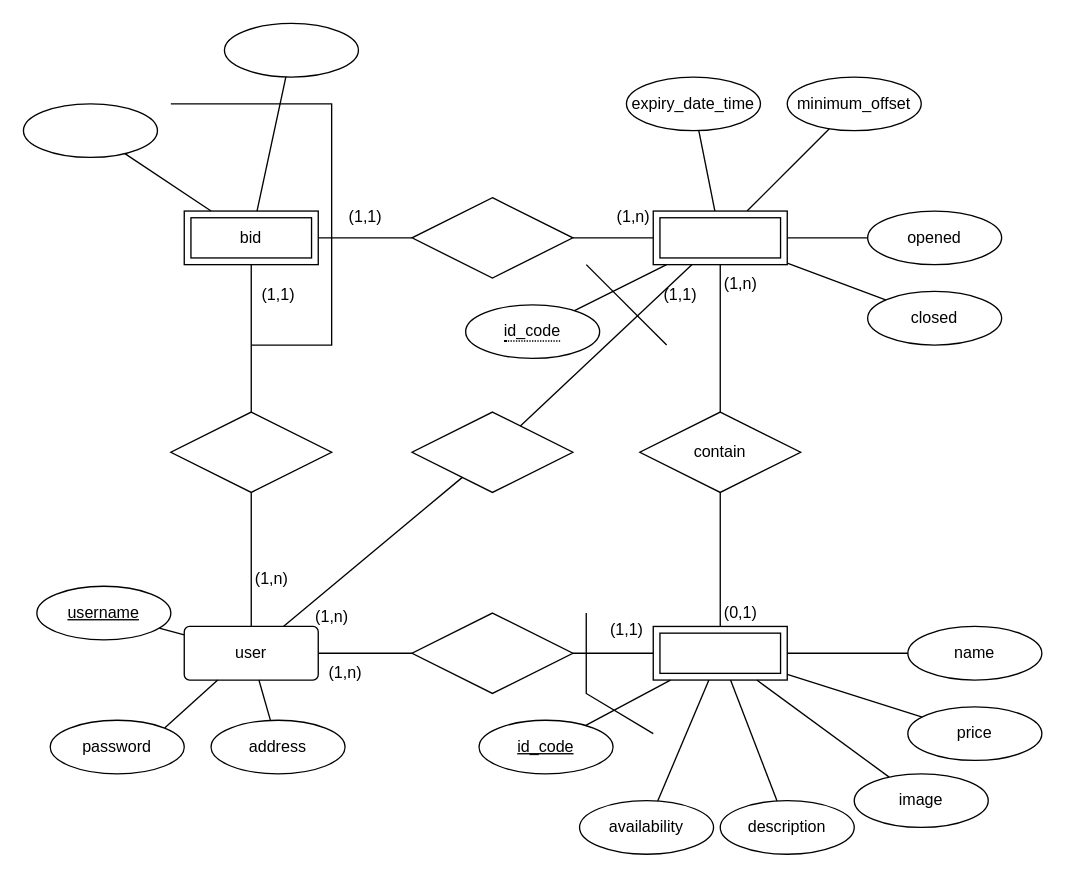
This 1065x878 diagram has some shape labels left out. The centre of each missing label's shape, as x and y in pixels:
"amount" belongs at [89,130].
"auction" belongs at [719,237].
"creates" belongs at [492,451].
"date_time" belongs at [290,49].
"item" belongs at [719,652].
"makes" belongs at [251,451].
"owns" belongs at [492,652].
"recieves" belongs at [492,237].
